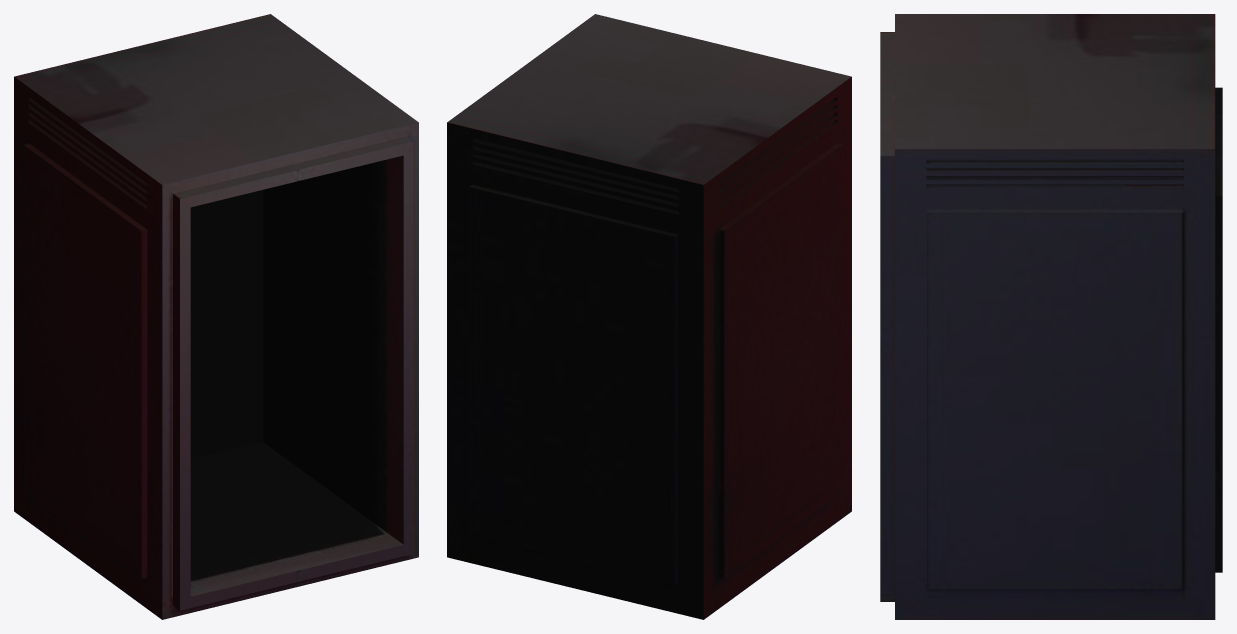
The model's file is server_box.glb.
3 views of the same model, side by side, from view 1: azimuth 30°, elevation 25°; view 2: azimuth 150°, elevation 25°; view 3: azimuth 270°, elevation 25° (orthographic). The views are drawn at different scales.
Parts seen in each view (by area): view 1: server_box; view 2: server_box; view 3: server_box.
Part boxes in pixels (x1,y1,x2,y2): server_box: (14,14,418,619); server_box: (447,14,851,619); server_box: (880,14,1222,619).
Size of the model in its own units: 4.6 by 7.13 by 4.7.
1 material, 1 textured.
